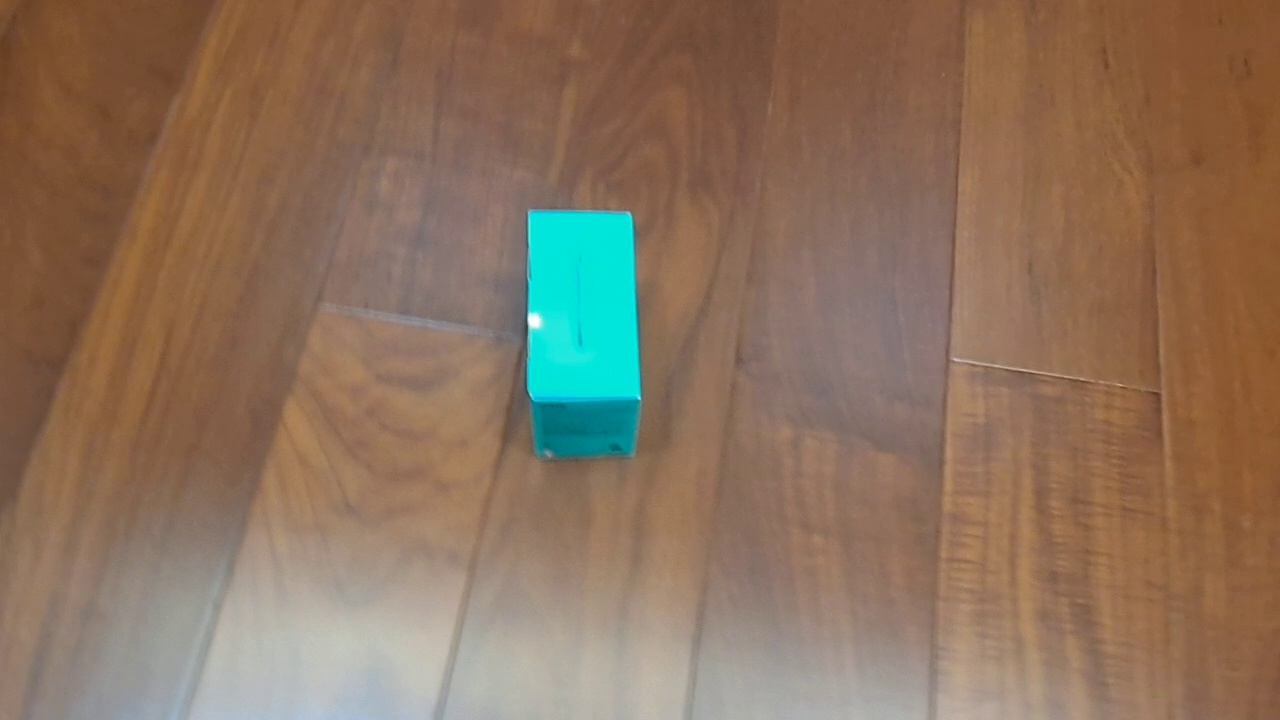webcam: (524, 208, 643, 463)
